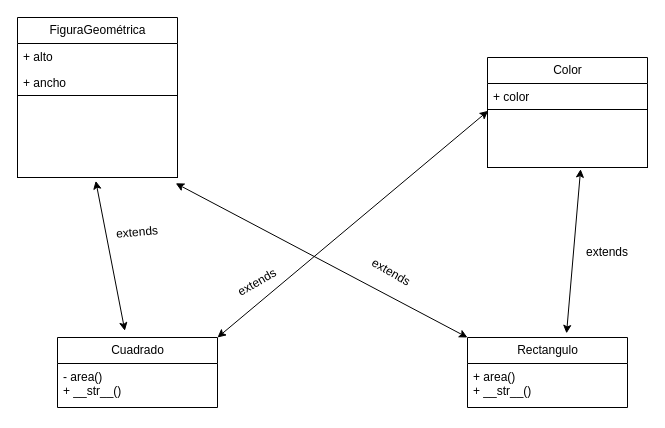
Image size: 665x428. Some labels were removed from this diagram. Here are the shapes that lost their labels. From the top down, the centre of each, then its label:
At (x=97, y=136): "+ get_alto + set_alto(alto) + get_ancho + set_ancho(ancho) + __str__()".
At (x=567, y=138): "+ get_color() + set_color(color) + __str__()".
